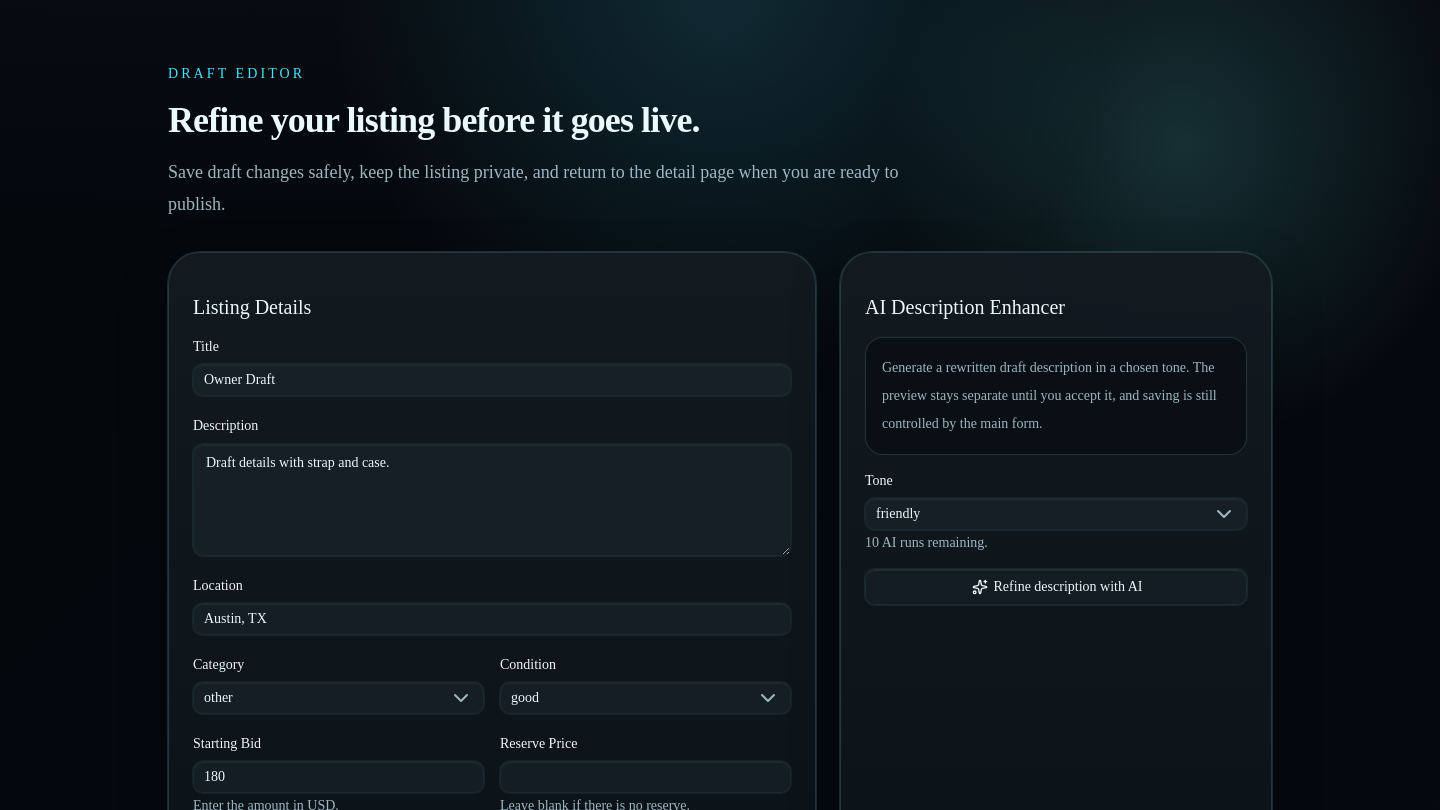
Test: DraftListingEditor › shows the AI preview and accepts it into form state only
This screenshot has width=1440, height=810.
What coordinates should you click on to do the following:
click the button "Refine description with AI"
I would click on:
 (1056, 587)
Its box is [865,569,1247,605].
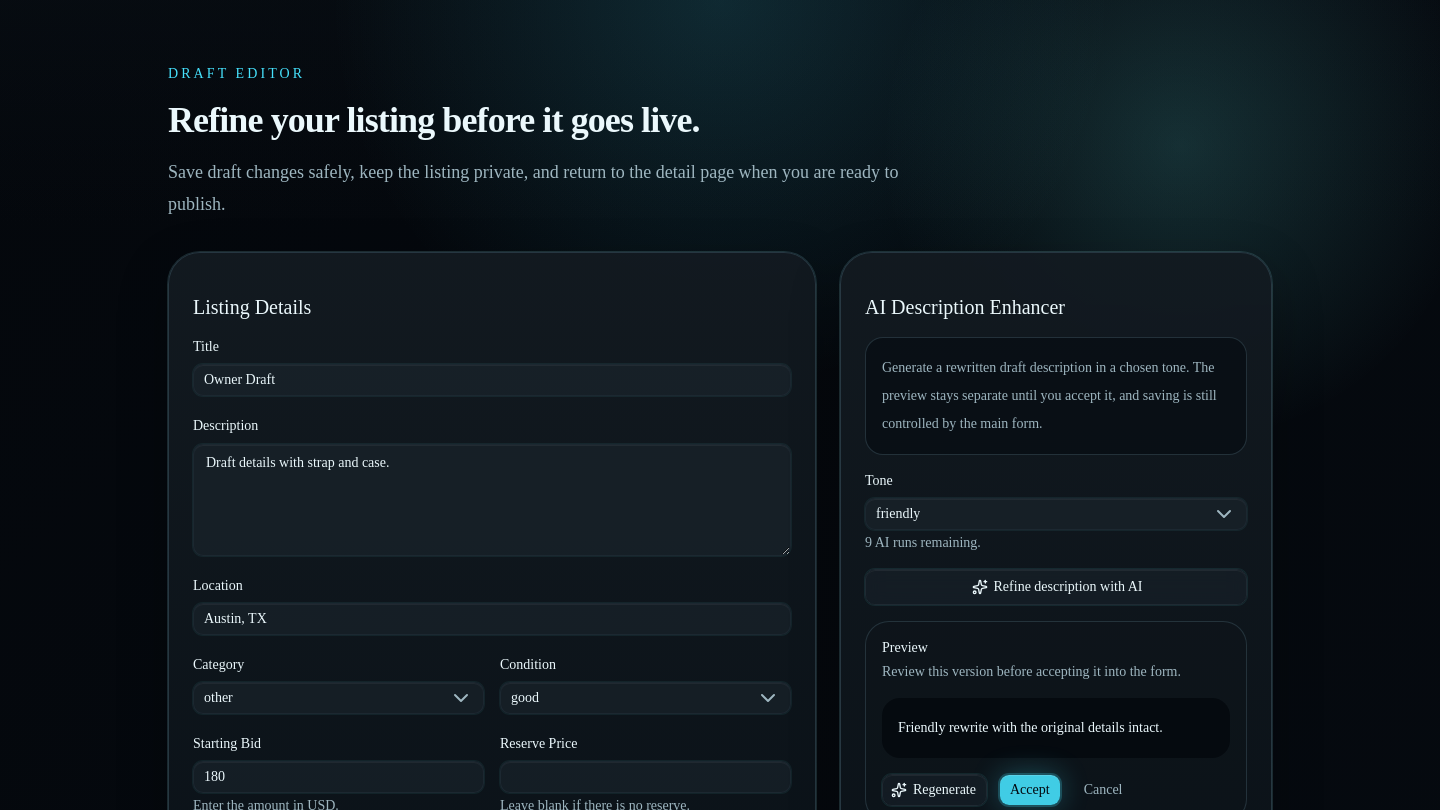
Check: the text "Friendly rewrite with the original details intact." is shown, box [882,698,1230,758]
Check: the text "9 AI runs remaining." is shown, box [865,535,981,550]
What coordinates should you click on to do the following:
click the button "Accept"
I would click on:
 (1030, 790)
Its box is [999,774,1061,806].
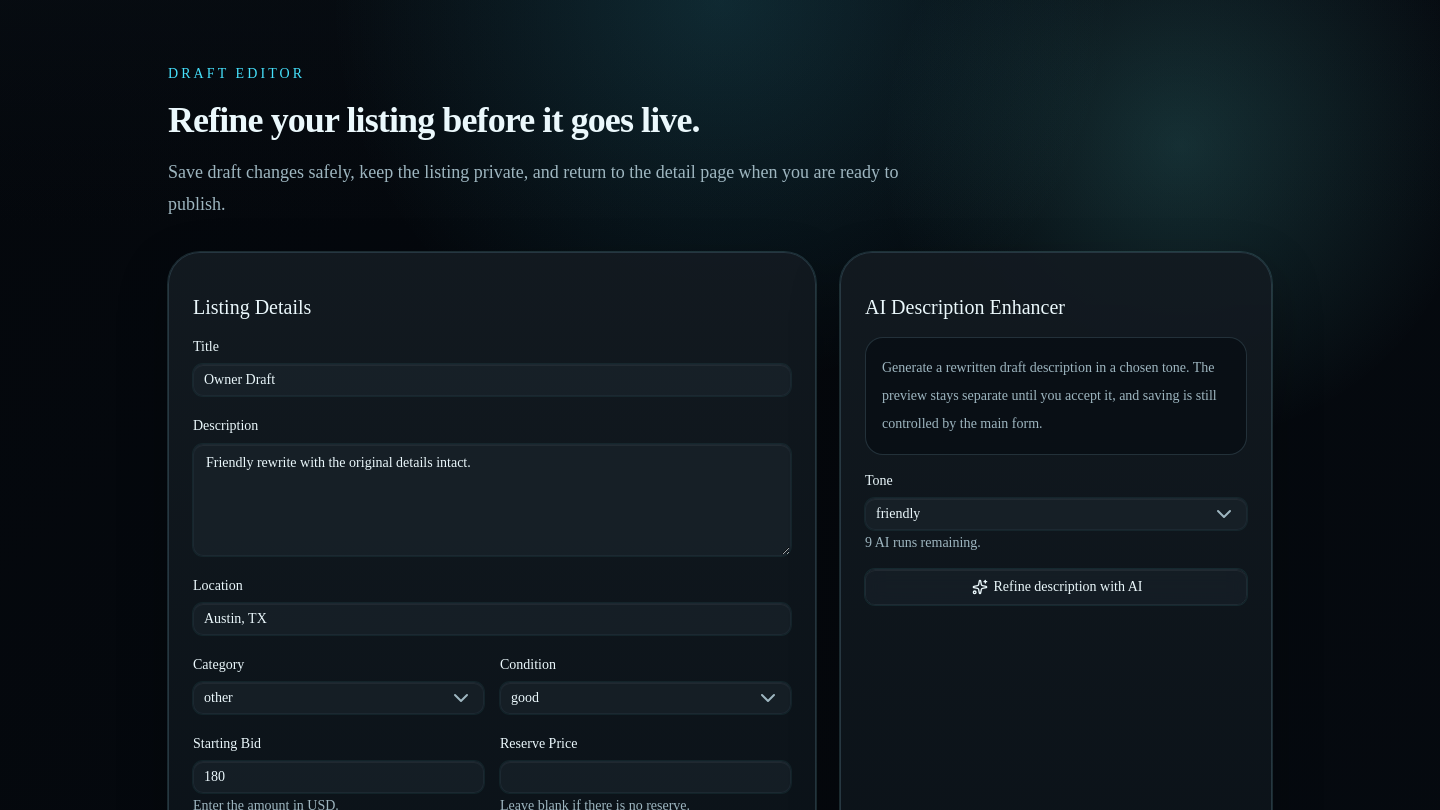
Check: the text box labelled "Description" holds "Friendly rewrite with the original details intact.", box [193,444,791,556]
